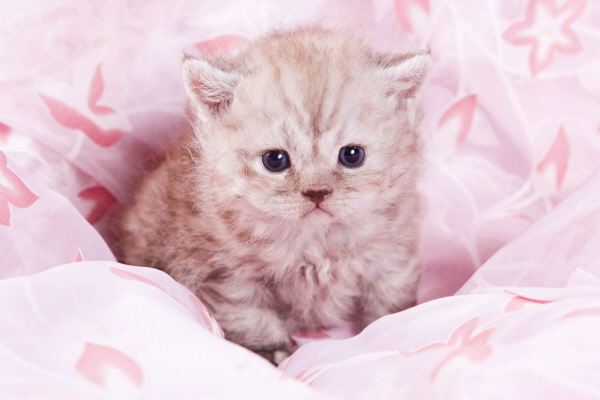cat: (105, 17, 443, 365)
cat-face: (178, 24, 436, 233)
